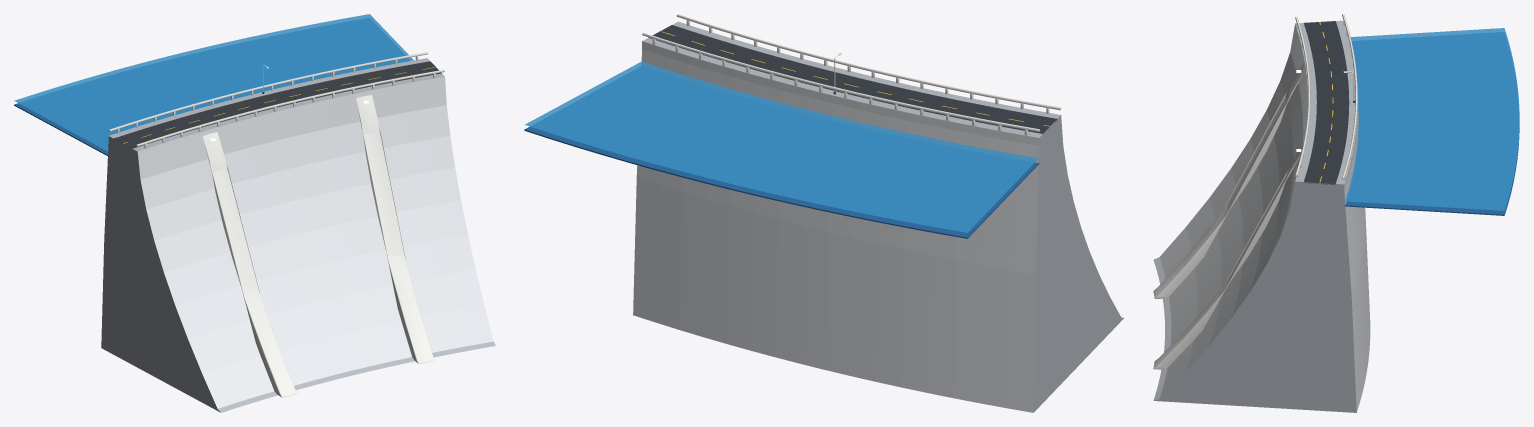
File: represa_grande_trecho.glb
The picture shows the model from 3 angles, left to right: view 1: azimuth 30°, elevation 25°; view 2: azimuth 150°, elevation 25°; view 3: azimuth 270°, elevation 25°; orthographic projection. The views are drawn at different scales.
Parts seen in each view (by area): view 1: represa_grande_trecho; view 2: represa_grande_trecho; view 3: represa_grande_trecho.
Boxes of the visible parts, <box> form: represa_grande_trecho: <box>14,14,495,412</box>; represa_grande_trecho: <box>524,14,1123,412</box>; represa_grande_trecho: <box>1153,14,1519,412</box>.
Bounding box in the file's own units: 69.59 × 45.88 × 58.89.
3 materials, 1 textured.
